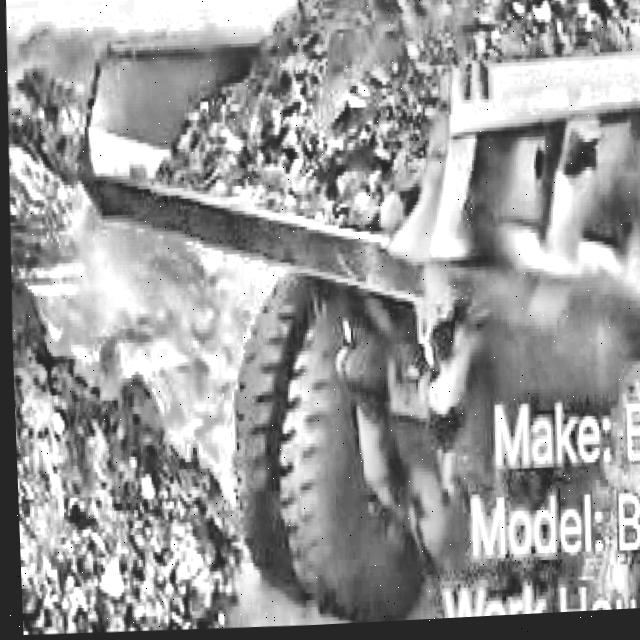dump_truck: (66, 0, 640, 617)
